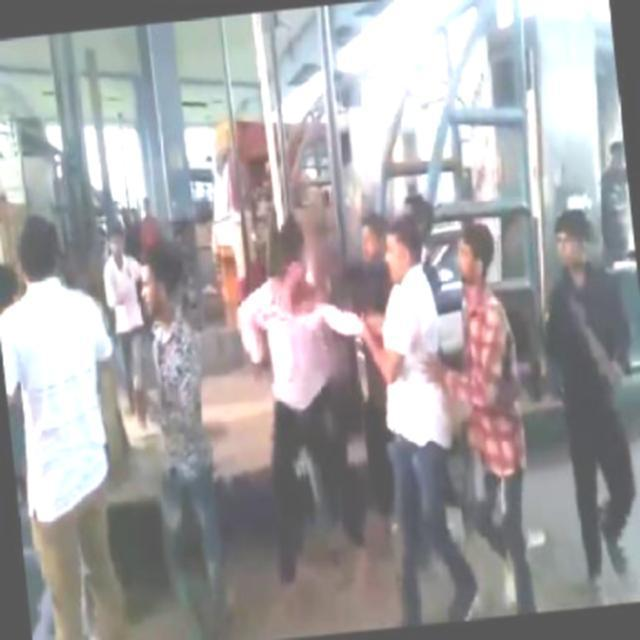fight: (238, 206, 351, 452)
